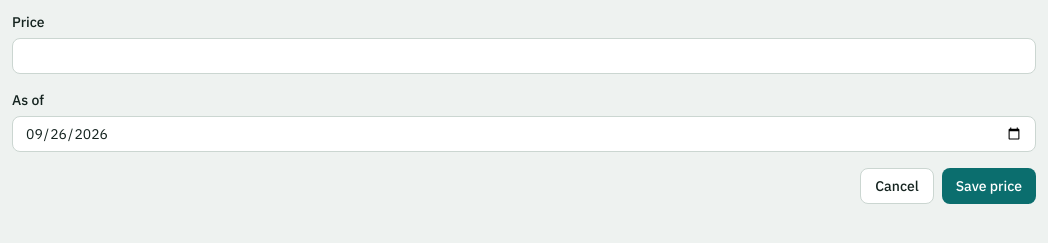
it: ManualPriceForm › rejects a negative price
The image size is (1048, 243).
Type "-5" into the field labelled "Price" at [524, 56], box x1=12 y1=38 x2=1036 y2=74
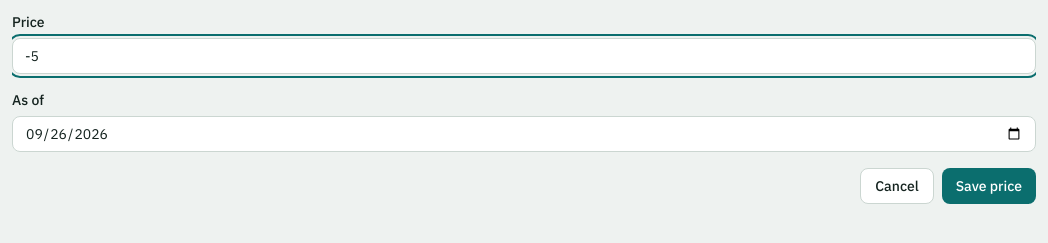
Click the button "Save price" at [989, 186], box x1=942 y1=168 x2=1036 y2=204
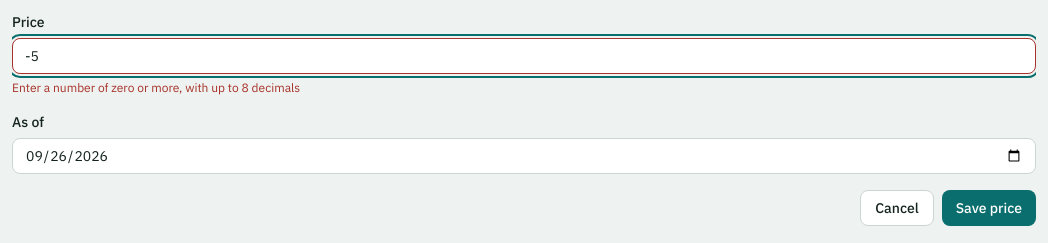
Check: the text "Enter a number of zero or more, with up to 8 decimals" is shown, box x1=12 y1=80 x2=300 y2=95
